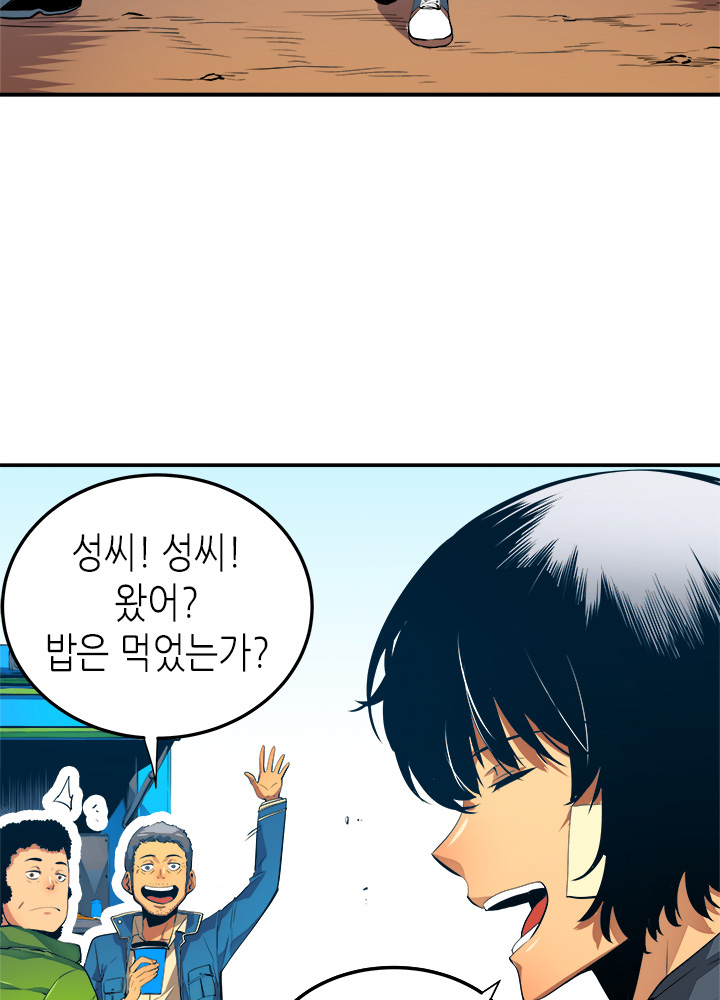dialog box: (1, 466, 350, 806)
text: (32, 509, 298, 713)
